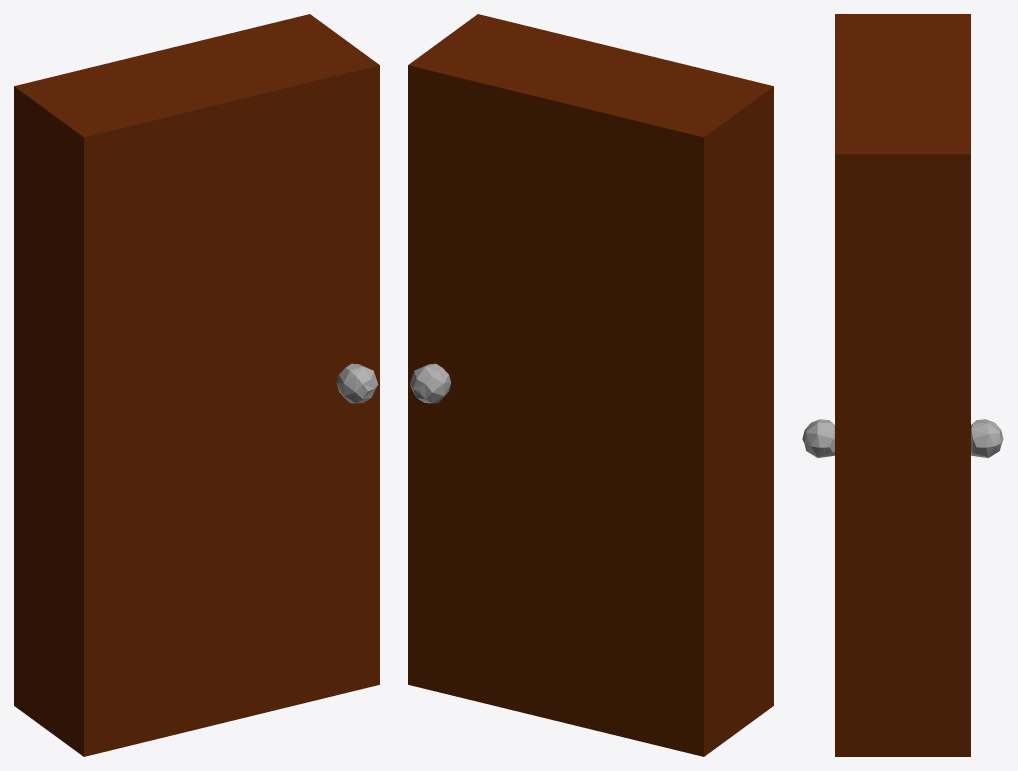
The model's file is DoorNormal.FBX.
The picture shows the model from 3 angles, left to right: view 1: azimuth 30°, elevation 25°; view 2: azimuth 150°, elevation 25°; view 3: azimuth 270°, elevation 25°; orthographic projection. The views are drawn at different scales.
Visible parts, largest first — view 1: Box001; view 2: Box001; view 3: Box001.
Part boxes in pixels (<box>): Box001: <box>14,14,379,756</box>; Box001: <box>408,14,773,756</box>; Box001: <box>802,14,1003,756</box>.
Size of the model in its own units: 200 by 400 by 121.
